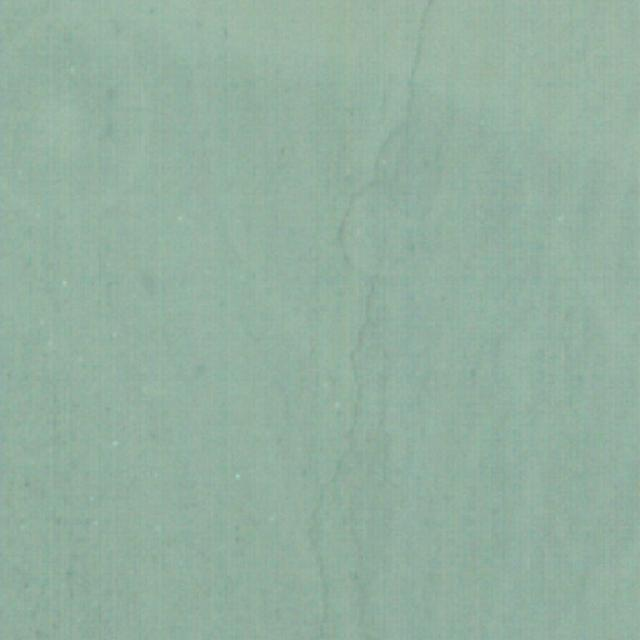Longitudinal: (294, 7, 434, 640)
